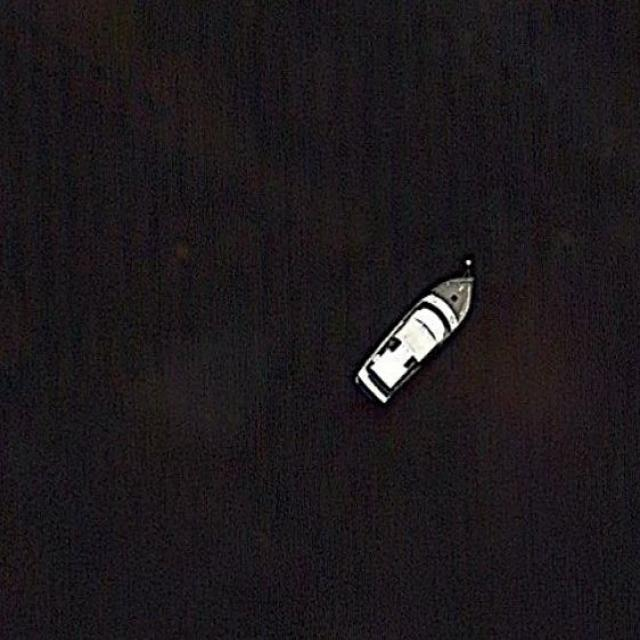ship: (354, 274, 476, 404)
